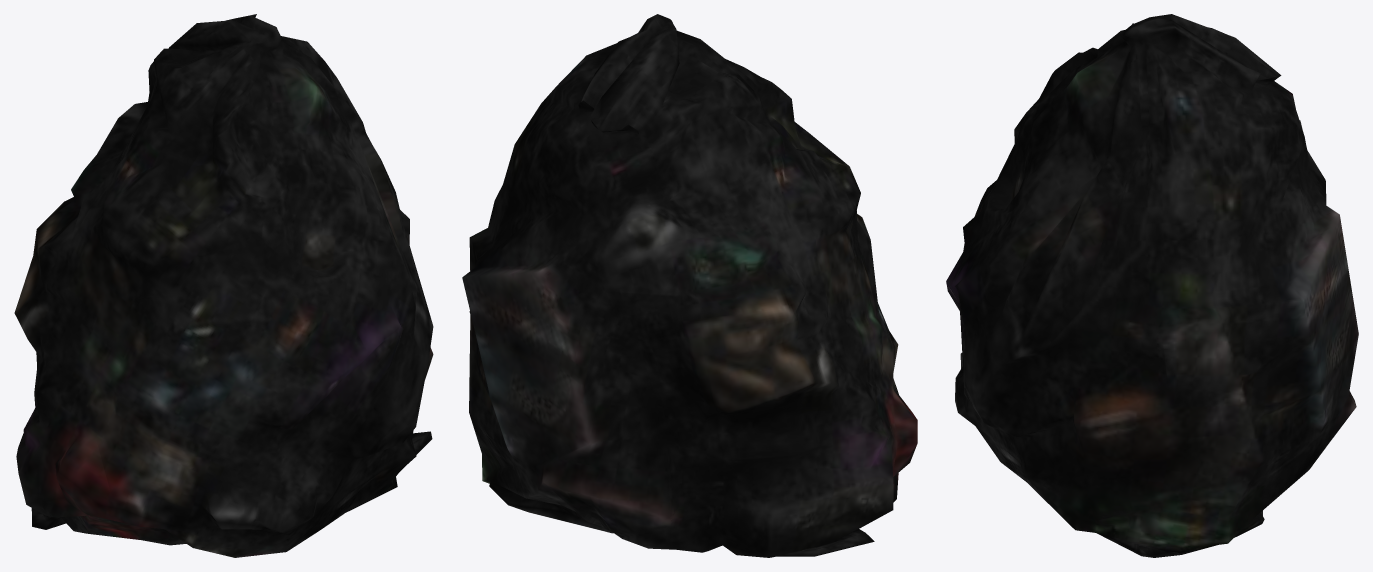
Rendered from trashbag.glb.
3 views of the same model, side by side, from view 1: azimuth 30°, elevation 25°; view 2: azimuth 150°, elevation 25°; view 3: azimuth 270°, elevation 25° (orthographic).
Visible parts, largest first — view 1: trashbag; view 2: trashbag; view 3: trashbag.
Part boxes in pixels (x1,y1,x2,y2): trashbag: [14, 14, 433, 557]; trashbag: [462, 14, 917, 557]; trashbag: [946, 14, 1358, 557].
Bounding box in the file's own units: 0.5236 × 0.575 × 0.4629.
1 material, 1 textured.
